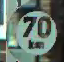Speed limit: (7, 4, 60, 56)
